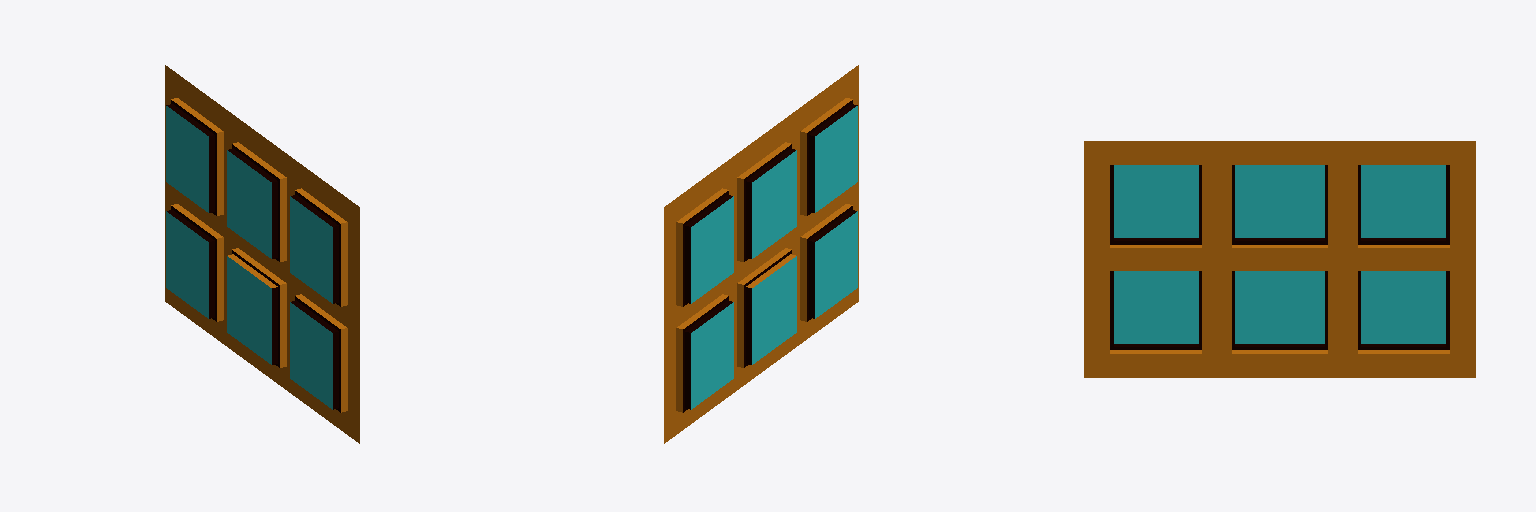
Rendered from skyscraper_wall.obj.
3 renders of one model, left to right at view 1: azimuth 30°, elevation 25°; view 2: azimuth 150°, elevation 25°; view 3: azimuth 270°, elevation 25°, orthographic.
Parts seen in each view (by area): view 1: Plane; view 2: Plane; view 3: Plane.
Boxes of the visible parts, x1,y1,x2,y2 form: Plane: [165, 65, 359, 443]; Plane: [664, 65, 858, 443]; Plane: [1084, 141, 1475, 377].
Bounding box in the file's own units: 0.1159 × 2 × 3.